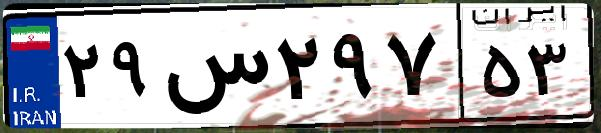2: (270, 28, 330, 110), (57, 26, 110, 100)
3: (525, 38, 570, 115)
5: (475, 38, 525, 113)
7: (385, 28, 445, 110)
9: (330, 28, 385, 110), (110, 28, 158, 98)
س: (158, 20, 270, 120)
